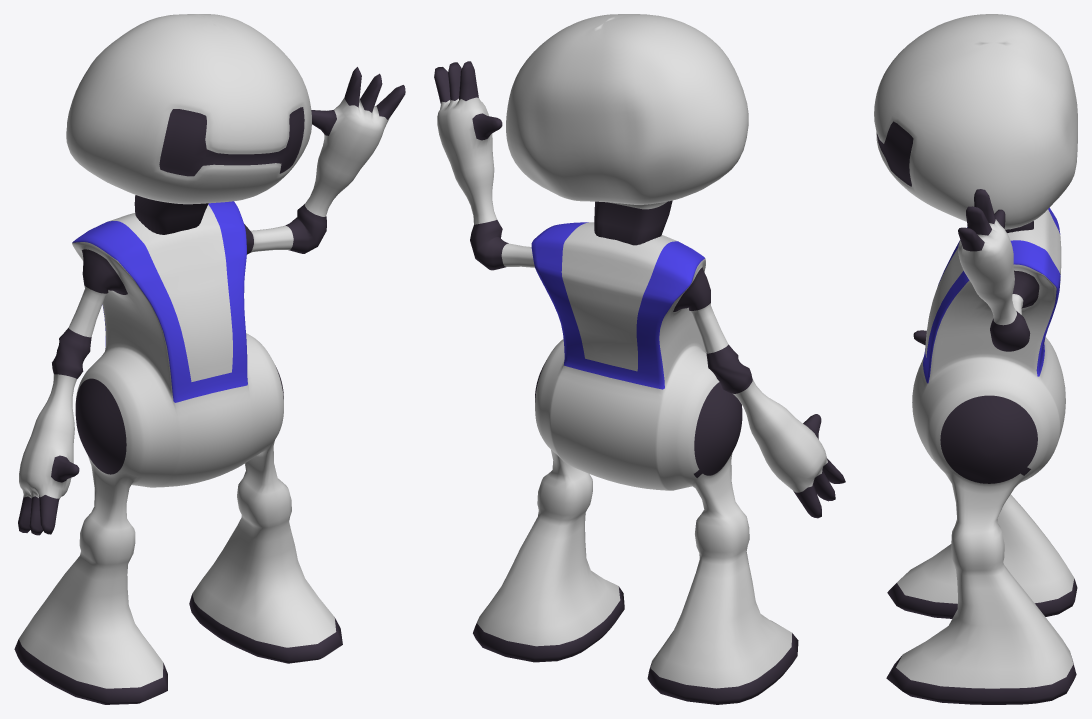
File: robot-hello.glb
3 renders of one model, left to right at view 1: azimuth 30°, elevation 25°; view 2: azimuth 150°, elevation 25°; view 3: azimuth 270°, elevation 25°, orthographic.
Parts seen in each view (by area): view 1: Cylinder.001; view 2: Cylinder.001; view 3: Cylinder.001.
Part boxes in pixels (left/top/right/bottom): Cylinder.001: left=14, top=14, right=405, bottom=704; Cylinder.001: left=434, top=14, right=845, bottom=704; Cylinder.001: left=874, top=14, right=1077, bottom=704.
Bounding box in the file's own units: 3.29 × 5.08 × 1.52.
